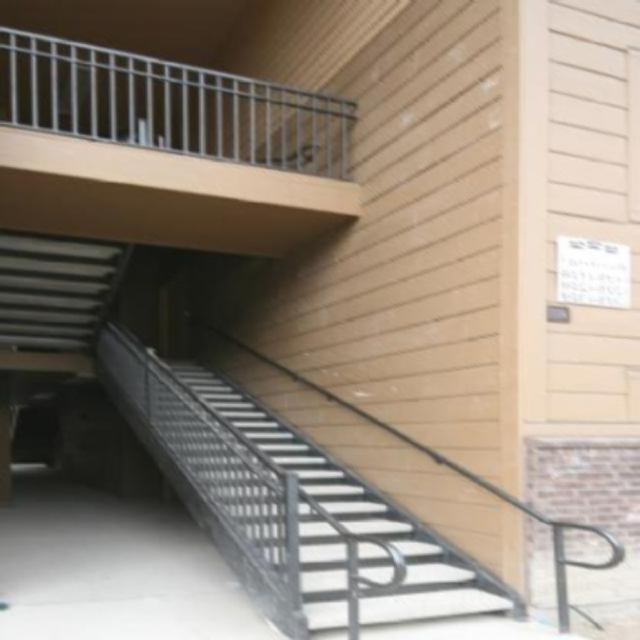stair: (42, 220, 572, 638)
